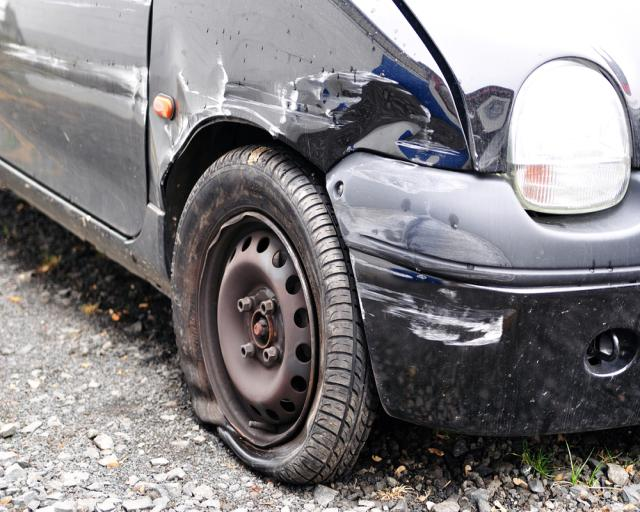dent: (294, 77, 430, 173), (465, 85, 512, 177)
scratch: (333, 154, 524, 344), (165, 50, 362, 154), (0, 36, 151, 129)
tire flat: (171, 146, 376, 487)
